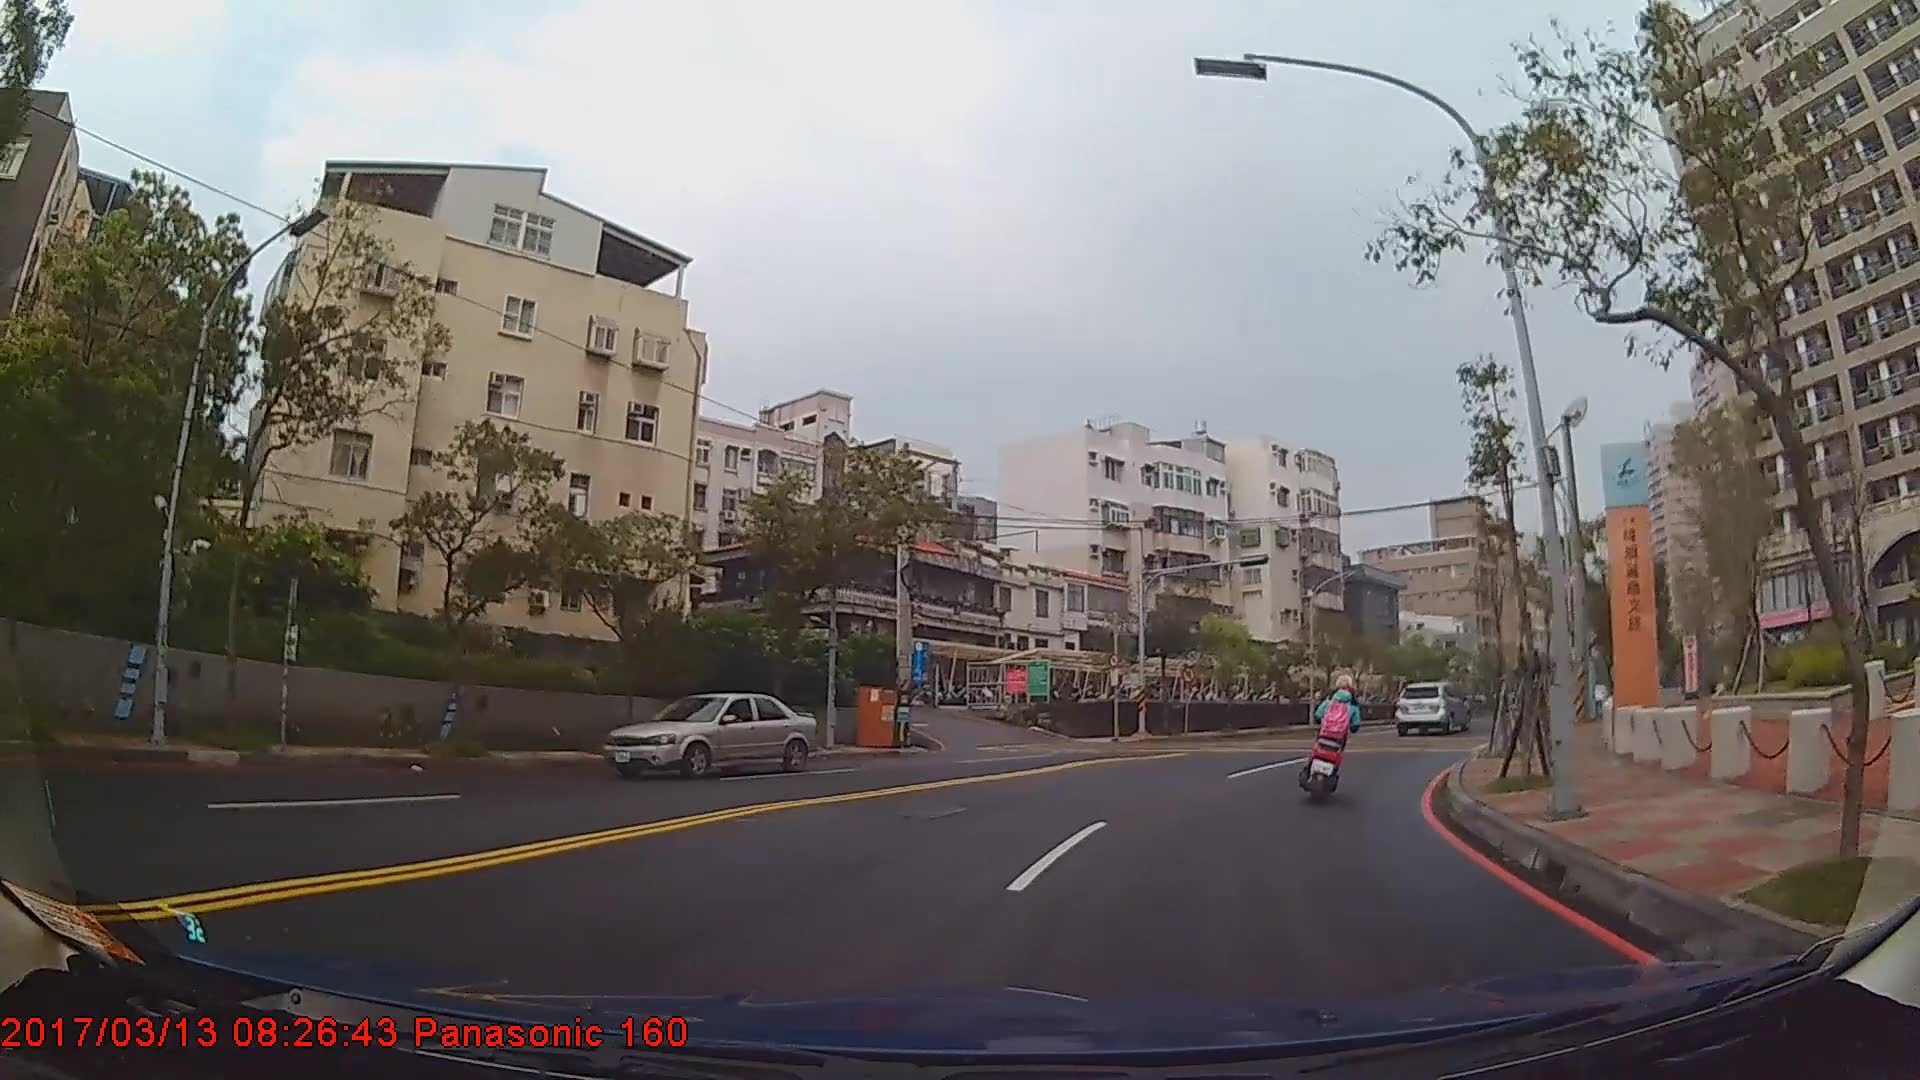rider: (1306, 674, 1365, 798)
vehicle: (601, 693, 818, 782), (1394, 680, 1466, 736)
